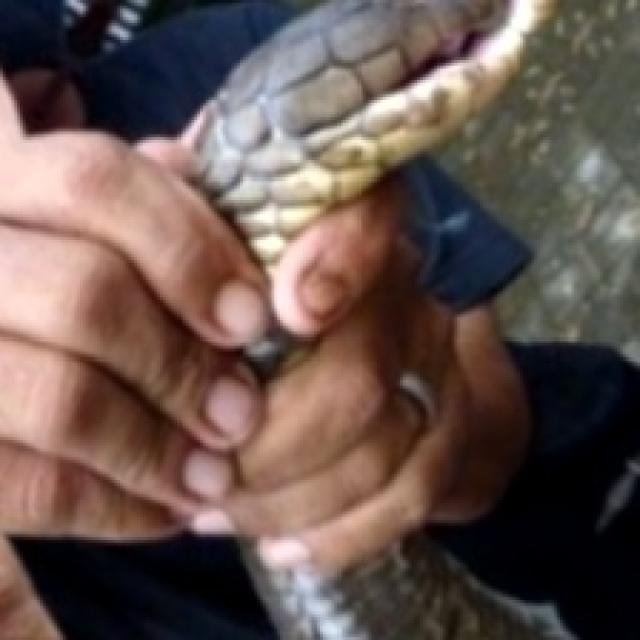king cobra: (177, 0, 549, 637)
